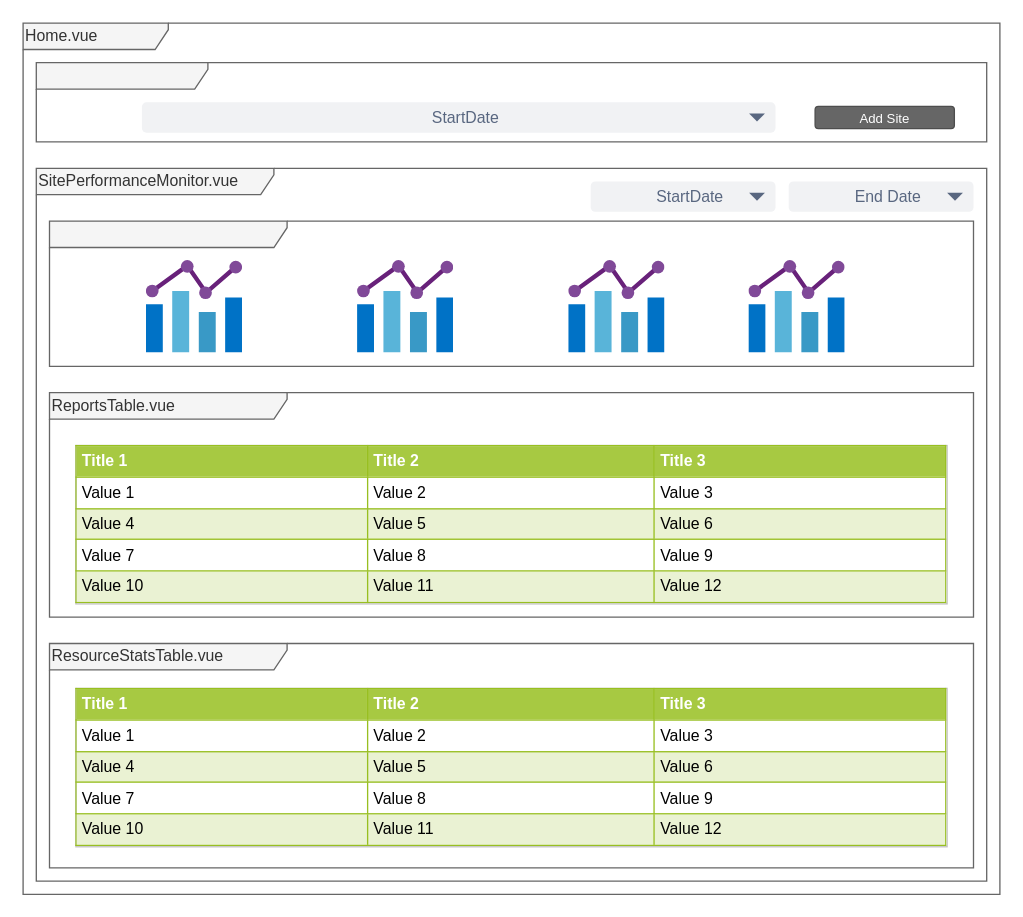
The diagram is 1023 pixels wide and 917 high, and some of its shapes have lost their labels. The shapes that lost their labels are listed below. From the top down, each one's box as (x1, y1, x2, y2) in pixels, then its label:
(35, 61, 987, 142): Site Manager.vue
(48, 220, 974, 366): ChartMonitor.vue
